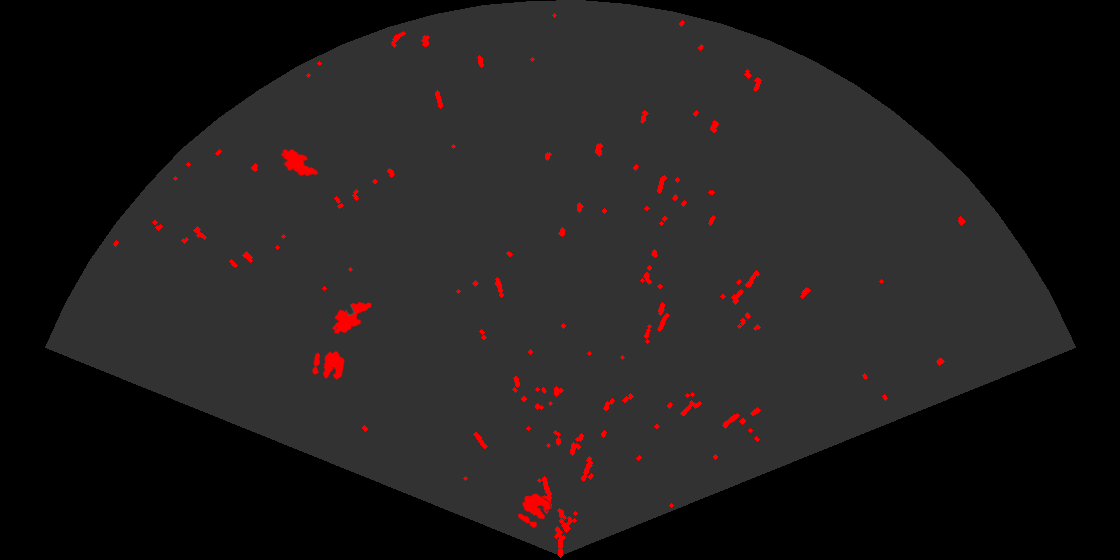AUV: (331, 300, 373, 335), (279, 147, 320, 178)
ball: (516, 492, 552, 530), (311, 350, 346, 381)
